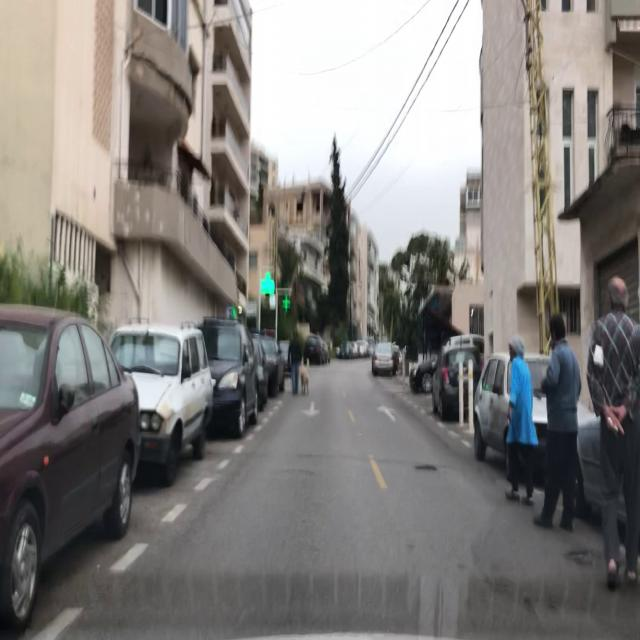Pothole: (415, 463, 437, 472)
